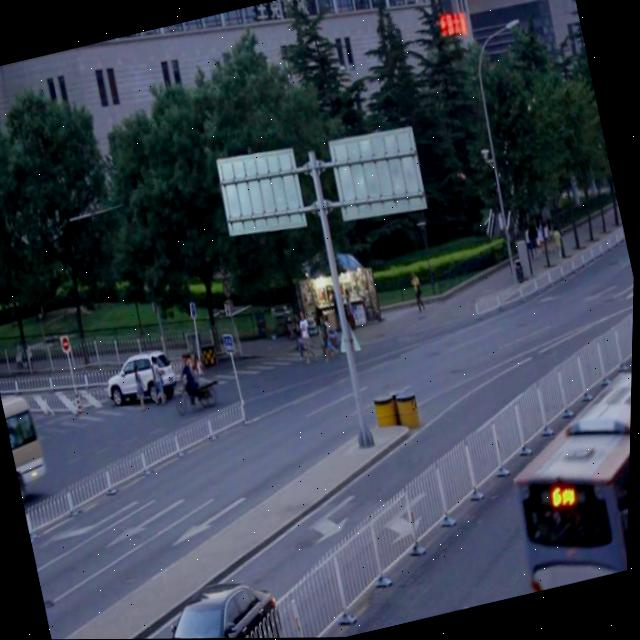car: (140, 572, 290, 639), (104, 345, 181, 411)
truck: (0, 387, 58, 507)
van: (491, 364, 634, 593)
